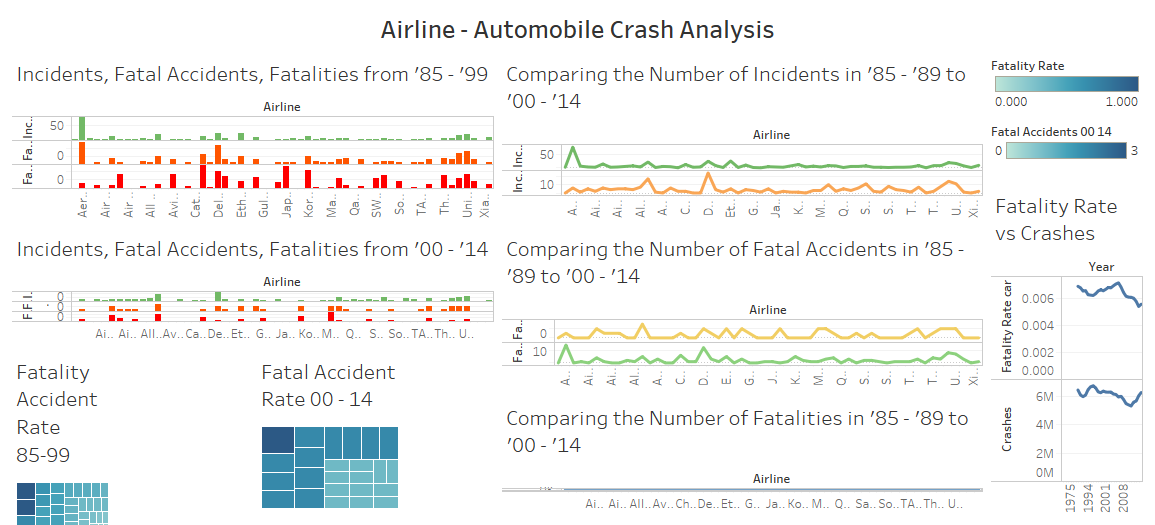

What the dashboard file says about the page in this screenshot:
{"tool":"tableau","page":{"name":"Dashboard 1","canvas":[1000,1000],"units":"permille","ordinal":0},"visuals":[{"type":"worksheet","box":[0,0,1000,1000]},{"type":"worksheet","param":"vert","box":[6.9,15.2,986.1,969.5]},{"type":"worksheet","box":[6.9,15.2,986.1,78.1]},{"type":"worksheet","param":"horz","box":[6.9,93.3,986.1,891.4]},{"type":"worksheet","box":[6.9,93.3,847.6,891.4]},{"type":"worksheet","param":"vert","box":[6.9,93.3,423.8,332.7]},{"type":"worksheet","title":"Sheet 1","mark":"Automatic","rows":["incidents_85_99","fatal_accidents_85_99","fatalities_85_99"],"cols":["airline"],"box":[6.9,93.3,423.8,332.7]},{"type":"worksheet","title":"Sheet 3","mark":"Line","rows":["incidents_85_99","incidents_00_14"],"cols":["airline"],"box":[430.7,93.3,423.8,332.7]},{"type":"worksheet","param":"vert","box":[854.5,93.3,138.5,891.4]},{"type":"worksheet","title":"Sheet 6","mark":"Automatic","param":"[federated.1nsgdbd1svumo01df2qro1sdqmng].[sum:Calculation_1913748369736626179:qk","box":[854.5,93.3,138.5,123.8]},{"type":"worksheet","title":"Sheet 7","mark":"Automatic","param":"[federated.1nsgdbd1svumo01df2qro1sdqmng].[sum:fatal_accidents_00_14:qk]","box":[854.5,217.2,138.5,123.8]},{"type":"worksheet","title":"Sheet 8","mark":"Automatic","rows":["Calculation_1913748370008530949","Crashes"],"cols":["Year"],"box":[854.5,341,138.5,643.8]},{"type":"worksheet","title":"Sheet 2","mark":"Automatic","rows":["incidents_00_14","fatal_accidents_00_14","fatalities_00_14"],"cols":["airline"],"box":[6.9,426.1,423.8,234.7]},{"type":"worksheet","title":"Sheet 4","mark":"Line","rows":["fatal_accidents_00_14","fatal_accidents_85_99"],"cols":["airline"],"box":[430.7,426.1,423.8,322.2]},{"type":"worksheet","title":"Sheet 6","mark":"Automatic","box":[6.9,660.8,211.9,324]},{"type":"worksheet","title":"Sheet 7","mark":"Automatic","box":[218.8,660.8,211.9,324]},{"type":"worksheet","title":"Sheet 5","mark":"Line","rows":["fatalities_85_99","fatalities_00_14"],"cols":["airline"],"box":[430.7,748.3,423.8,236.4]}]}

Visuals, with their boxes on the dashboard's canvas, which has no fixed pixel size, in thousandths of its width and height (x1, y1, x2, y2). These are canvas units, not pixel positions in the 1155x525 screenshot, which may show the page scaled, cropped or inside an application window:
worksheet: x1=0 y1=0 x2=1000 y2=1000
worksheet: x1=7 y1=15 x2=993 y2=985
worksheet: x1=7 y1=15 x2=993 y2=93
worksheet: x1=7 y1=93 x2=993 y2=985
worksheet: x1=7 y1=93 x2=854 y2=985
worksheet: x1=7 y1=93 x2=431 y2=426
"Sheet 1" worksheet: x1=7 y1=93 x2=431 y2=426
"Sheet 3" worksheet (Line marks): x1=431 y1=93 x2=854 y2=426
worksheet: x1=854 y1=93 x2=993 y2=985
"Sheet 6" worksheet: x1=854 y1=93 x2=993 y2=217
"Sheet 7" worksheet: x1=854 y1=217 x2=993 y2=341
"Sheet 8" worksheet: x1=854 y1=341 x2=993 y2=985
"Sheet 2" worksheet: x1=7 y1=426 x2=431 y2=661
"Sheet 4" worksheet (Line marks): x1=431 y1=426 x2=854 y2=748
"Sheet 6" worksheet: x1=7 y1=661 x2=219 y2=985
"Sheet 7" worksheet: x1=219 y1=661 x2=431 y2=985
"Sheet 5" worksheet (Line marks): x1=431 y1=748 x2=854 y2=985
